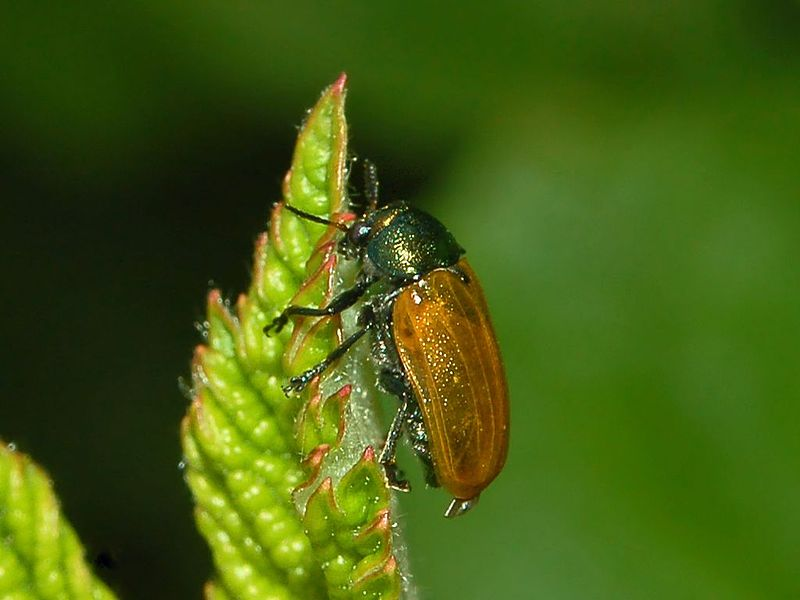Labidostomis_longimana: (257, 156, 519, 517)
